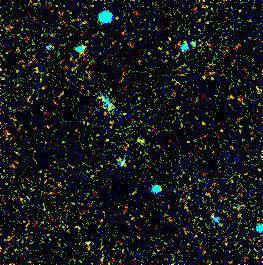star: (126, 125, 156, 155)
